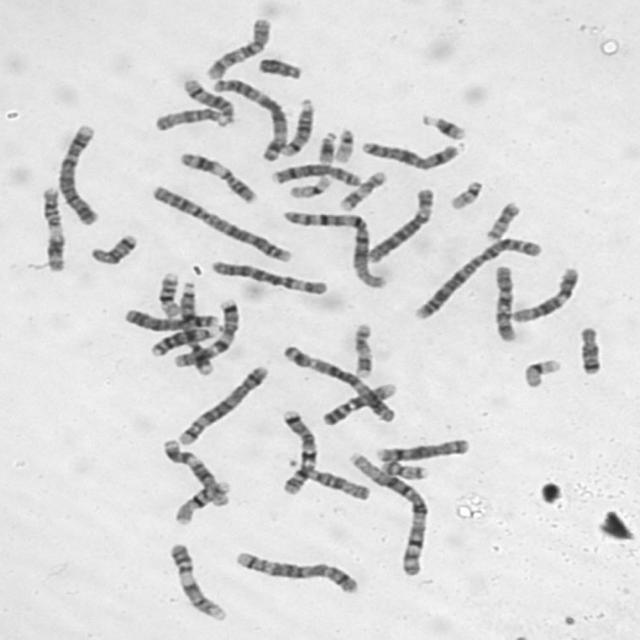A1: (342, 447, 430, 578), (276, 204, 386, 290)
A2: (144, 180, 292, 264), (408, 233, 544, 321)
A3: (278, 340, 399, 424), (208, 73, 290, 162)
B4: (53, 120, 102, 226), (118, 304, 222, 332)
B5: (172, 361, 270, 447), (230, 546, 360, 595)
C10: (201, 14, 274, 82), (489, 260, 520, 344)
C11: (173, 147, 257, 205), (35, 182, 67, 273)
C12: (156, 435, 230, 508), (507, 262, 582, 324)
C6: (362, 182, 437, 264), (205, 256, 329, 297)
C7: (167, 294, 242, 369), (275, 404, 319, 496)
C8: (371, 433, 472, 464), (265, 159, 362, 188)
C9: (164, 539, 228, 623), (317, 378, 399, 426)
D13: (148, 305, 220, 360), (146, 324, 217, 358)
D14: (178, 74, 236, 127), (277, 94, 317, 158)
D15: (280, 457, 372, 503), (148, 103, 232, 133)
E16: (170, 476, 232, 526), (152, 268, 183, 318)
E17: (334, 166, 388, 212), (348, 318, 374, 380)
E18: (84, 229, 139, 267), (574, 322, 604, 377)
F19: (518, 354, 564, 389), (283, 172, 333, 200)
F20: (482, 197, 522, 241), (376, 455, 428, 481)
G21: (416, 109, 468, 141), (312, 126, 338, 166)
G22: (444, 176, 484, 212), (330, 124, 356, 163)
X: (355, 136, 462, 172)
Y: (254, 53, 303, 80)
